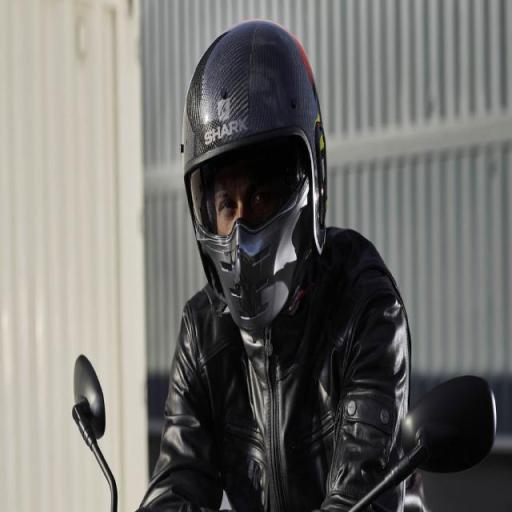Helmet: (183, 20, 326, 331)
Motor: (351, 376, 495, 511)
